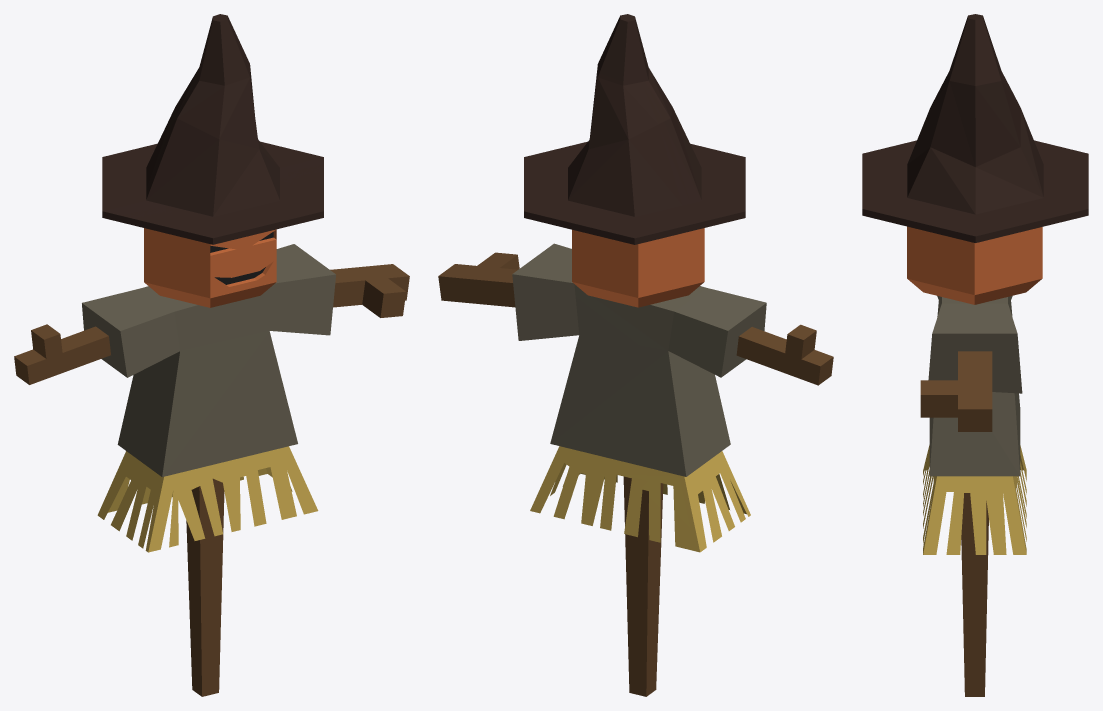
File: Prop_Scarecrow_01.fbx
3 views of the same model, side by side, from view 1: azimuth 30°, elevation 25°; view 2: azimuth 150°, elevation 25°; view 3: azimuth 270°, elevation 25° (orthographic). The views are drawn at different scales.
Parts seen in each view (by area): view 1: Prop_Scarecrow_01; view 2: Prop_Scarecrow_01; view 3: Prop_Scarecrow_01.
Part boxes in pixels (<box>): Prop_Scarecrow_01: <box>14,14,409,696</box>; Prop_Scarecrow_01: <box>438,14,833,696</box>; Prop_Scarecrow_01: <box>862,14,1088,696</box>.
Size of the model in its own units: 1235 by 2078 by 623.
